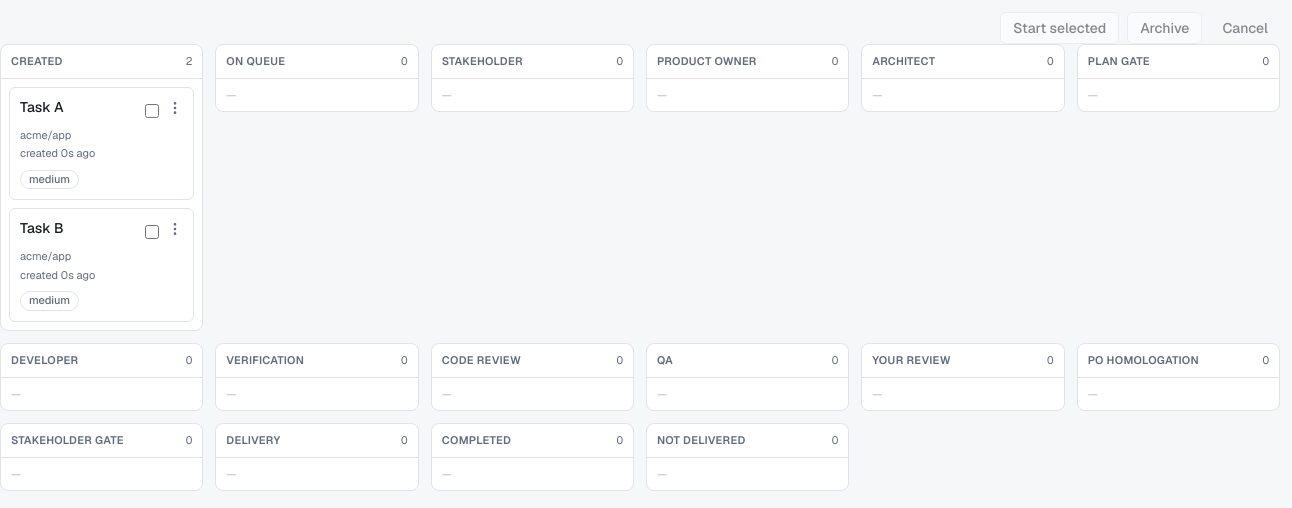
BatchStartButton enable/disable and count › is disabled with zero selected and enables with a count once checked
The width and height of the screenshot is (1292, 508).
Expected: the button "Start selected" is disabled, [1000,12,1119,44]
Click the checkbox named "Task A". click: click(152, 110)
box: [145,104,159,118]
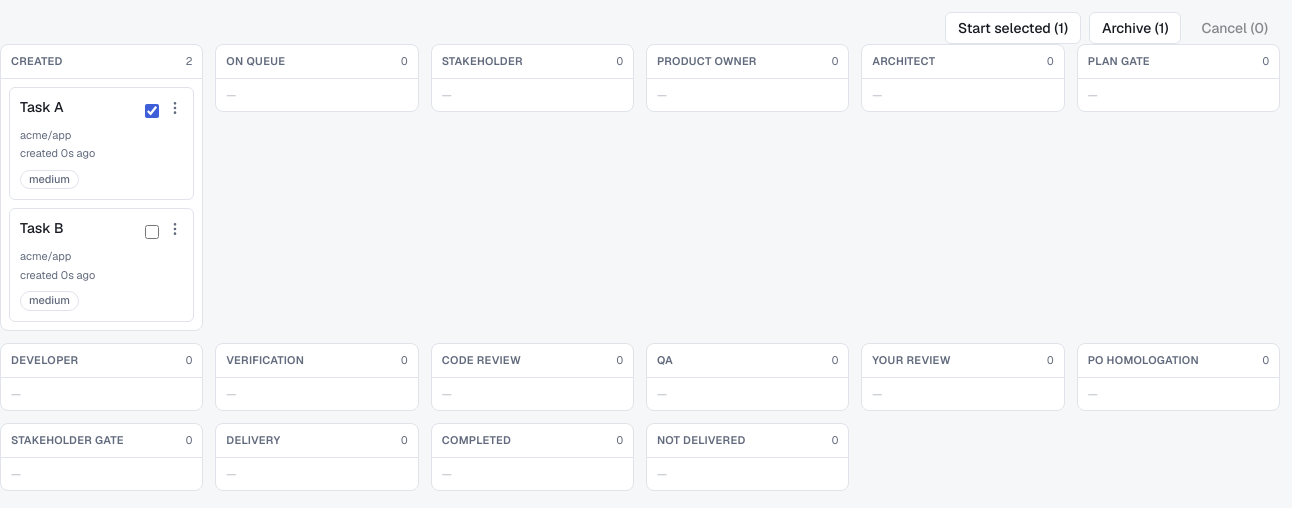
Result: the button "Start selected (1)" is enabled at [945,12,1081,44]
Click the checkbox named "Task B". click: click(152, 232)
box: [145,225,159,239]
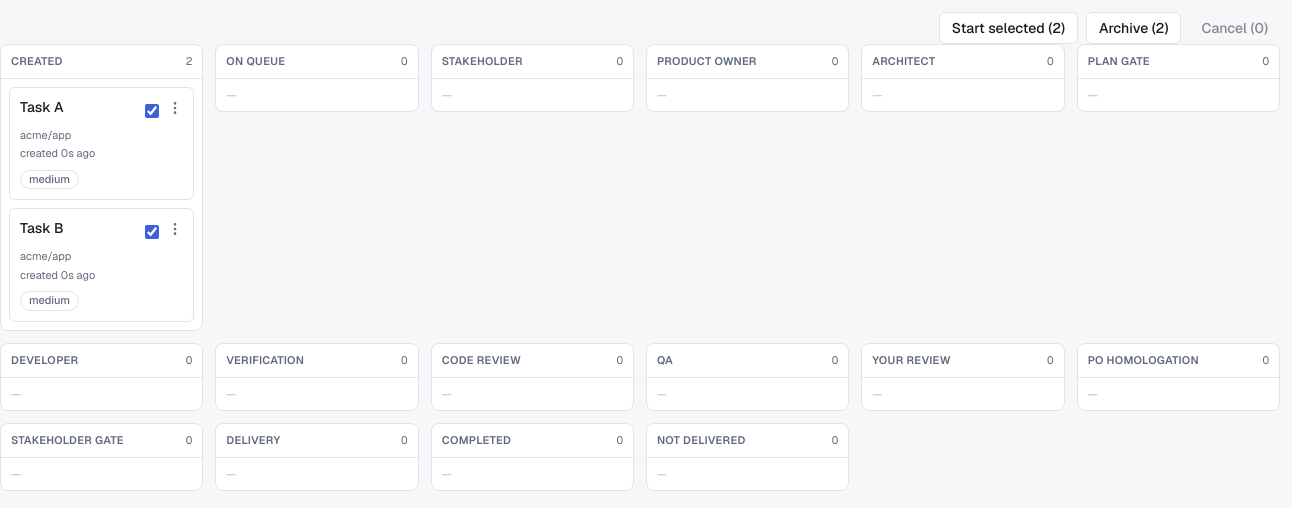
Result: the button "Start selected (2)" is shown at [939,12,1078,44]
// Unchecking drops the count back down.
Click the checkbox named "Task A". click: click(152, 110)
box: [145,104,159,118]
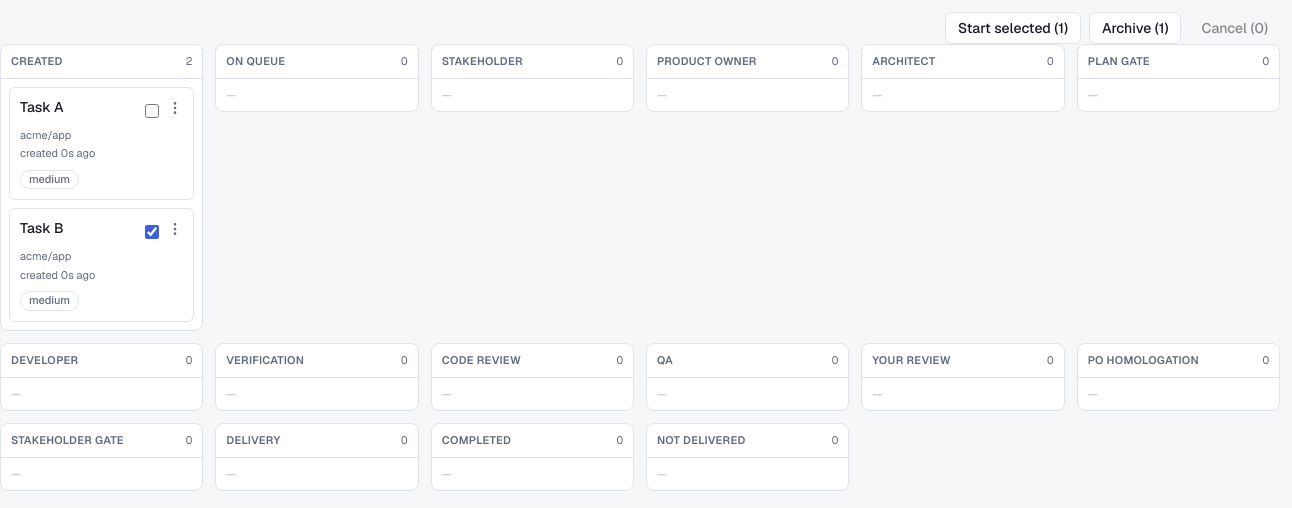
Result: the button "Start selected (1)" is shown at [945,12,1081,44]
